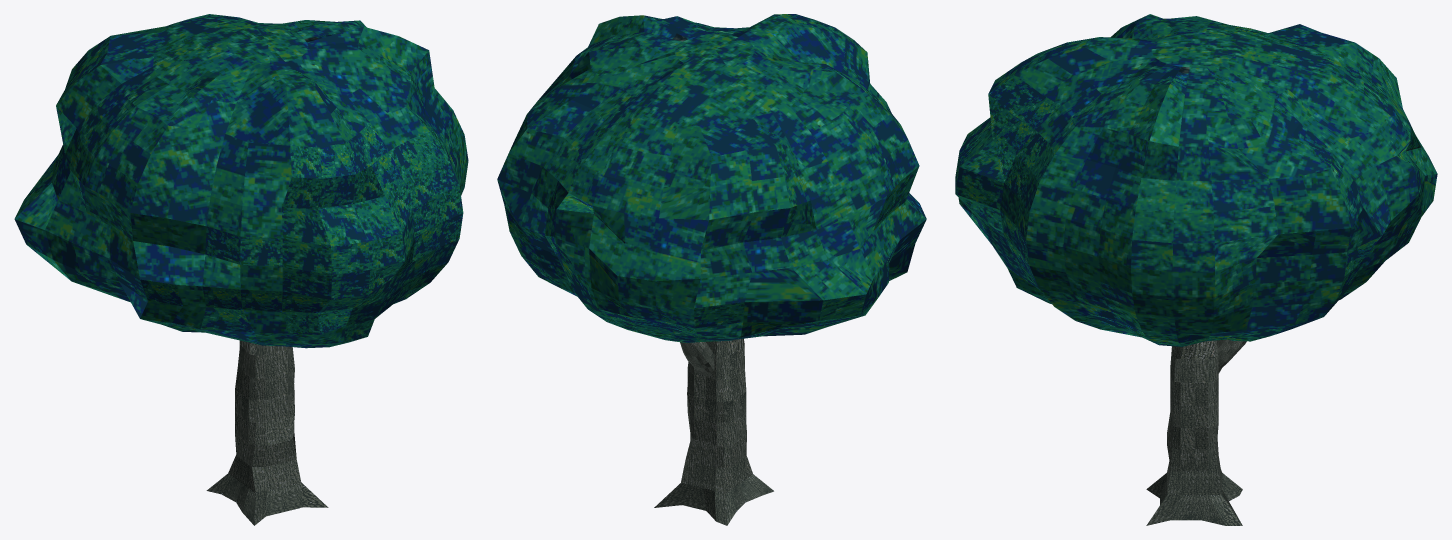
File: treepixeltaed.fbx
3 views of the same model, side by side, from view 1: azimuth 30°, elevation 25°; view 2: azimuth 150°, elevation 25°; view 3: azimuth 270°, elevation 25° (orthographic). The views are drawn at different scales.
Parts seen in each view (by area): view 1: sphere, treetrunk; view 2: sphere, treetrunk, treetrunk_1; view 3: sphere, treetrunk.
Boxes of the visible parts, x1,y1,x2,y2 form: sphere: (14, 14, 468, 348); treetrunk: (206, 340, 328, 525); sphere: (497, 14, 926, 342); treetrunk: (654, 338, 773, 525); treetrunk_1: (680, 342, 714, 376); sphere: (955, 14, 1437, 346); treetrunk: (1146, 340, 1242, 525).
Bounding box in the file's own units: 271 × 315 × 296.
2 materials, 2 textured.
